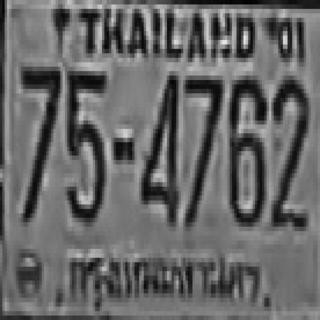N02: (270, 74, 307, 224)
N04: (139, 71, 176, 222)
N05: (65, 67, 104, 218)
N06: (227, 71, 264, 222)
N07: (18, 62, 58, 218), (183, 71, 220, 222)
P04: (68, 245, 266, 317)
